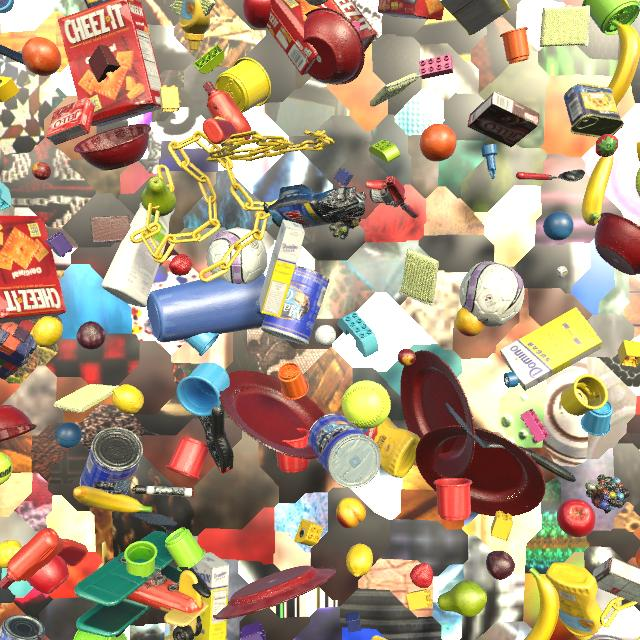ycb_002_master_chef_can: (260, 265, 330, 345), (308, 413, 381, 488), (80, 427, 143, 495)
ycb_003_cracker_box: (58, 0, 162, 127), (266, 0, 377, 75), (0, 215, 66, 324), (377, 0, 444, 20)
ycb_004_sugar_box: (500, 307, 602, 391), (259, 220, 305, 318), (193, 552, 230, 640), (439, 0, 510, 35)
ycb_005_tomato_soup_can: (305, 0, 328, 6)
ycb_006_mustard_bottle: (546, 562, 602, 640), (359, 417, 420, 478), (179, 0, 210, 50)
ycb_007_tuna_fish_can: (0, 614, 45, 640)
ycb_008_pudding_box: (467, 91, 540, 147), (592, 557, 640, 605)
ycb_009_gelatin_box: (46, 98, 95, 145)
ycb_010_potted_meat_can: (564, 84, 624, 138), (84, 0, 111, 8)
ycb_011_banana: (608, 20, 640, 106), (524, 567, 559, 640), (582, 154, 614, 226), (73, 486, 153, 513)
ycb_012_strawberry: (410, 563, 433, 588), (595, 134, 619, 157), (169, 254, 192, 276)
ycb_013_apple: (27, 555, 69, 594), (557, 499, 595, 537), (243, 0, 271, 29)
ycb_014_lemon: (112, 384, 144, 414), (33, 316, 63, 347), (346, 544, 373, 577), (0, 540, 22, 568)
ycb_015_peach: (336, 497, 366, 528), (455, 307, 484, 337)
ycb_016_pear: (437, 580, 487, 617), (141, 177, 176, 217)
ycb_017_orange: (22, 37, 61, 76), (420, 123, 457, 161)
ycb_018_plum: (486, 550, 515, 580), (76, 321, 106, 350)
